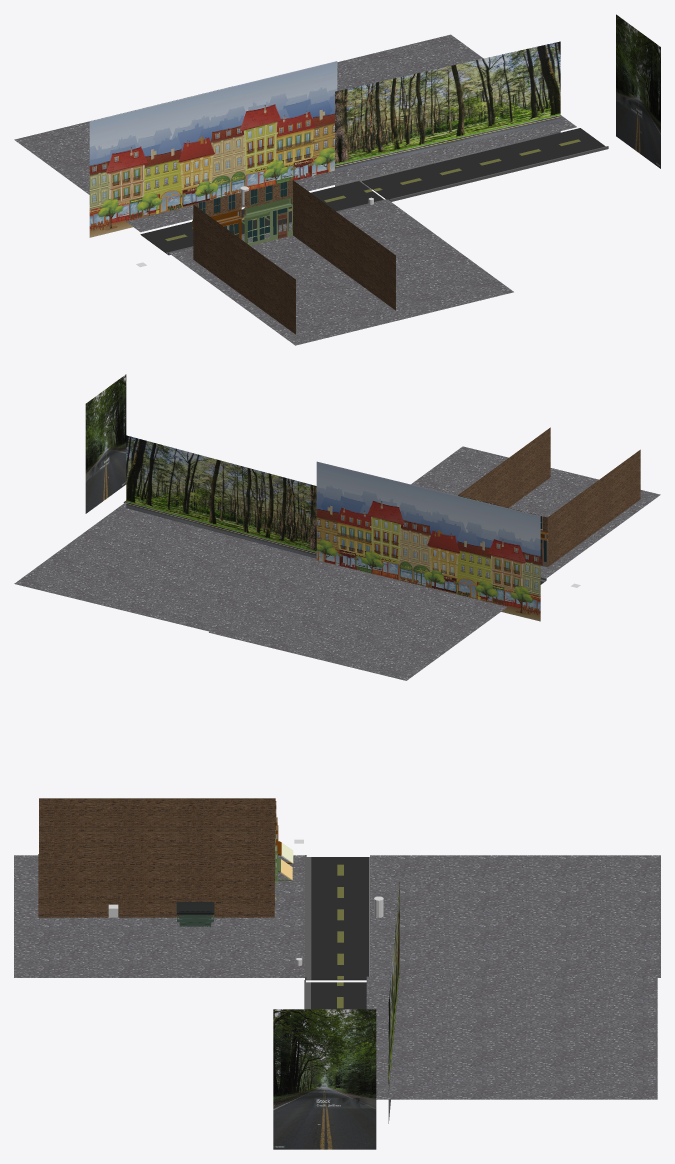
The model's file is restaurantexterior_Blocking.fbx.
The picture shows the model from 3 angles, top to bottom: view 1: azimuth 30°, elevation 25°; view 2: azimuth 150°, elevation 25°; view 3: azimuth 270°, elevation 25°; orthographic projection. The views are drawn at different scales.
Parts seen in each view (by area): view 1: StreetRef, 360_F_99213208_jI6LPxZPsShox4UKtKzUrOoxxMKUk7yJ, Plane.002, Plane, Plane.001, Plane.005, Cube.002, istockphoto-160138564-1024x1024, Plane.004, Cube; view 2: StreetRef, Plane.005, Plane.004, 360_F_99213208_jI6LPxZPsShox4UKtKzUrOoxxMKUk7yJ, Plane.002, Plane.001, istockphoto-160138564-1024x1024, Plane; view 3: Plane.004, Plane.005, Plane.002, Plane, istockphoto-160138564-1024x1024, Plane.001, Cube, Cube.002, 360_F_99213208_jI6LPxZPsShox4UKtKzUrOoxxMKUk7yJ, Dumpster.
Boxes of the visible parts, x1,y1,x2,y2 form: StreetRef: (89, 61, 337, 237); 360_F_99213208_jI6LPxZPsShox4UKtKzUrOoxxMKUk7yJ: (335, 41, 560, 189); Plane.002: (169, 199, 513, 345); Plane: (241, 180, 395, 310); Plane.001: (191, 192, 295, 334); Plane.005: (337, 34, 576, 180); Cube.002: (362, 128, 608, 201); istockphoto-160138564-1024x1024: (616, 14, 660, 168); Plane.004: (14, 86, 359, 232); Cube: (140, 181, 386, 255); StreetRef: (316, 461, 540, 621); Plane.005: (14, 502, 310, 631); Plane.004: (209, 557, 507, 680); 360_F_99213208_jI6LPxZPsShox4UKtKzUrOoxxMKUk7yJ: (126, 435, 316, 558); Plane.002: (411, 446, 660, 578); Plane.001: (504, 449, 640, 567); istockphoto-160138564-1024x1024: (85, 374, 126, 513); Plane: (457, 427, 550, 507); Plane.004: (370, 855, 660, 977); Plane.005: (366, 976, 657, 1099); Plane.002: (14, 855, 304, 977); Plane: (38, 830, 292, 917); istockphoto-160138564-1024x1024: (273, 1009, 376, 1149); Plane.001: (39, 798, 293, 864); Cube: (305, 855, 369, 980); Cube.002: (304, 980, 366, 1009); 360_F_99213208_jI6LPxZPsShox4UKtKzUrOoxxMKUk7yJ: (388, 882, 399, 1123); Dumpster: (176, 902, 214, 926).
Bounding box in the file's own units: 13915 × 3487 × 13173.
Materials: 21 (5 with a texture image).
